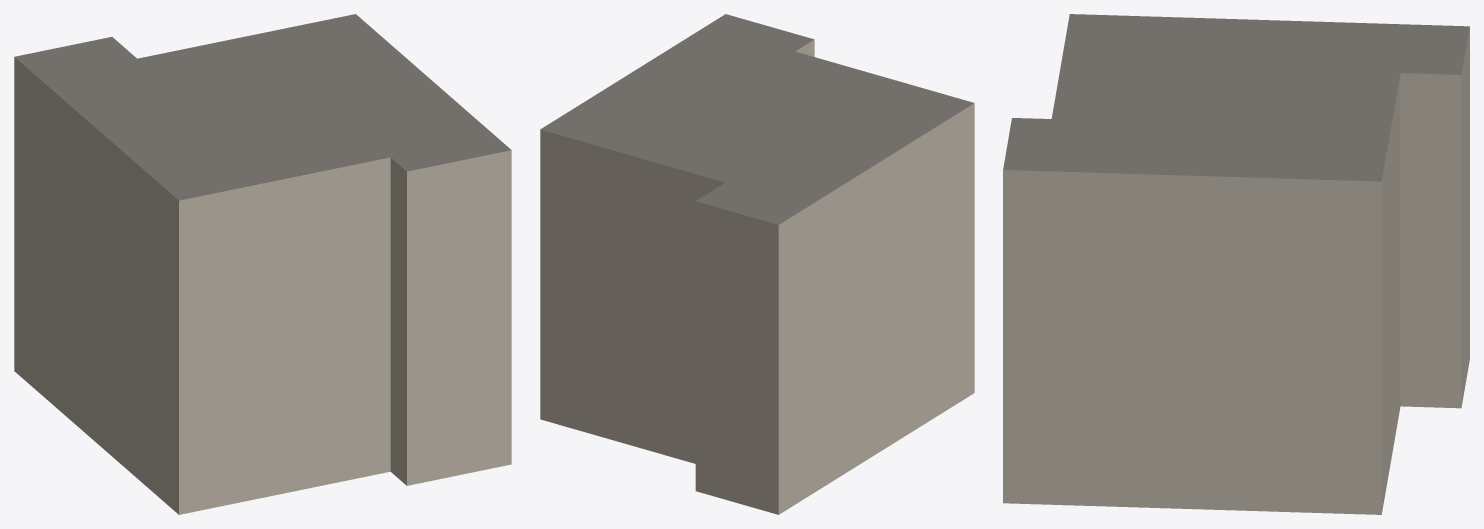
3 views of the same model, side by side, from view 1: azimuth 30°, elevation 25°; view 2: azimuth 150°, elevation 25°; view 3: azimuth 270°, elevation 25° (orthographic). The views are drawn at different scales.
Parts seen in each view (by area): view 1: HP-w177998988; view 2: HP-w177998988; view 3: HP-w177998988.
Part boxes in pixels (<box>): HP-w177998988: <box>14,14,511,514</box>; HP-w177998988: <box>540,14,974,514</box>; HP-w177998988: <box>1003,14,1469,514</box>.
Size of the model in its own units: 19.41 by 18 by 22.84.
